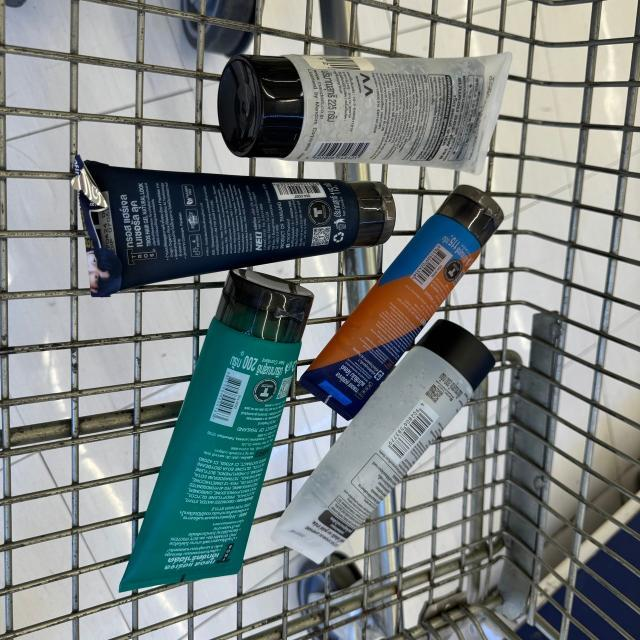Squeeze Tube: (124, 267, 319, 593), (272, 324, 502, 567), (300, 190, 508, 424), (80, 170, 397, 291), (214, 52, 508, 175)
